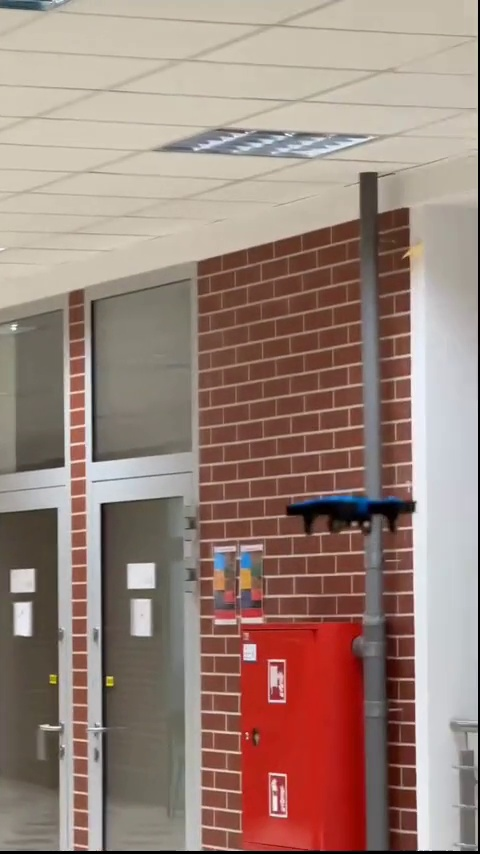drone: (283, 488, 419, 537)
